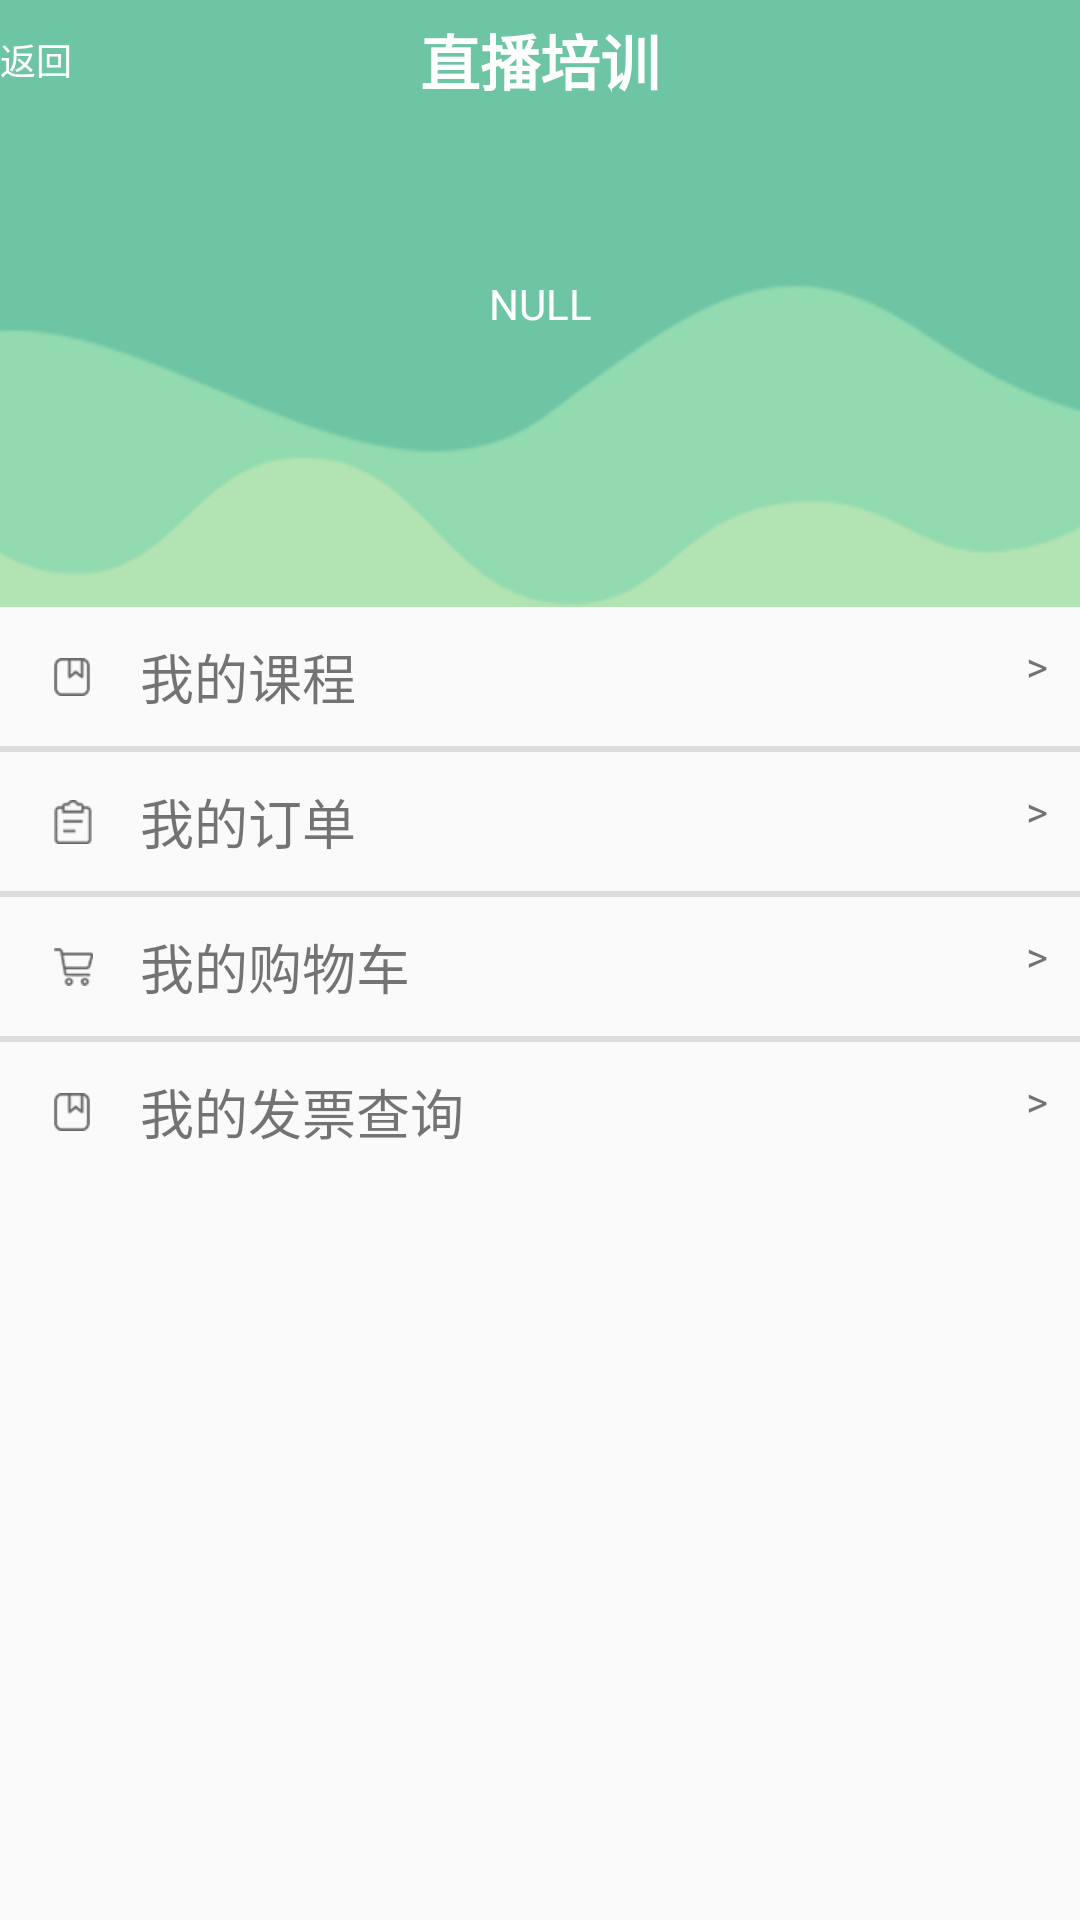

Icons on this 1080w x 1920h Android screen, each with the point to tap as [x,y]:
class: [72,677], [72,1112]
order: [73,822]
shop car: [73,967]
